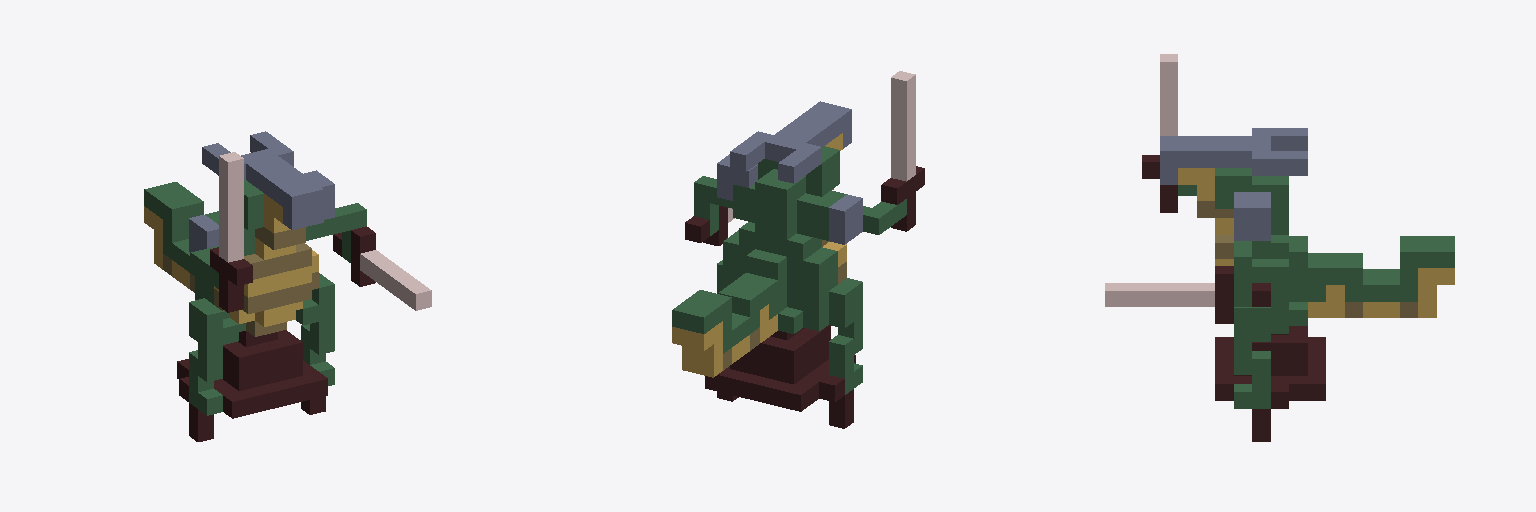
The picture shows the model from 3 angles: view 1: azimuth 30°, elevation 25°; view 2: azimuth 150°, elevation 25°; view 3: azimuth 270°, elevation 25°; orthographic projection.
Visible parts, largest first — view 1: object 1; view 2: object 1; view 3: object 1.
Boxes of the visible parts, <box> form: object 1: <box>144,131,431,441</box>; object 1: <box>672,71,924,428</box>; object 1: <box>1105,54,1454,441</box>.
Size of the model in its own units: 1.1 by 1.9 by 1.9.
Materials: 1 (1 with a texture image).